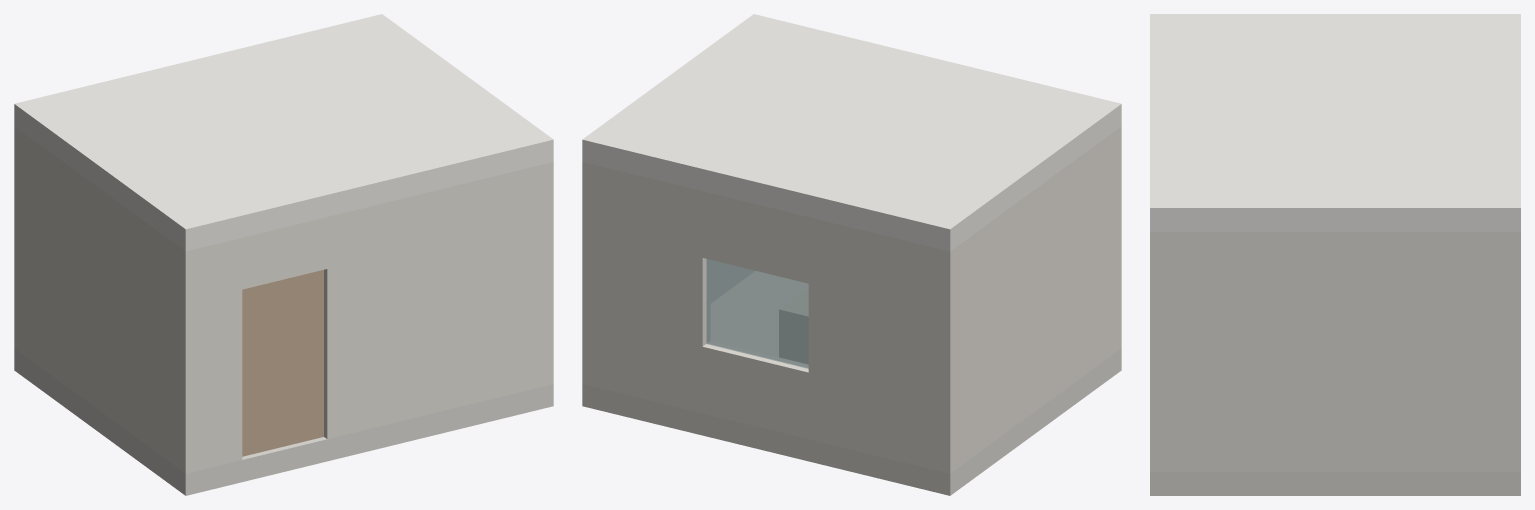
The picture shows the model from 3 angles, left to right: view 1: azimuth 30°, elevation 25°; view 2: azimuth 150°, elevation 25°; view 3: azimuth 270°, elevation 25°; orthographic projection. The views are drawn at different scales.
Visible parts, largest first — view 1: structure:Roof slab#0w6uLgfnrMDBeFuuRJNM4m, structure:South wall#18ecfMIRLPkfvf6_$0JaEx, structure:West wall#1HUDrLZ$vI_98GMG1c9sUJ, door:Entrance door#3Z2k6lcTnJFPCzw1CFlWEi, structure:Floor slab#2$lS6_pkzT9vhyE28hFrd5, structure:North wall#3T5xq7FzXSZgp4sGHYytL8; view 2: structure:North wall#3T5xq7FzXSZgp4sGHYytL8, structure:Roof slab#0w6uLgfnrMDBeFuuRJNM4m, structure:West wall#1HUDrLZ$vI_98GMG1c9sUJ, structure:Floor slab#2$lS6_pkzT9vhyE28hFrd5, window:North window#21gg1YcgDGVO7O$Ix04IPg, structure:South wall#18ecfMIRLPkfvf6_$0JaEx, furniture:Work table, 1.6 m#3zDKiH6mrH2Rie17YTXQ7c, structure:East wall#3GD3Dog8fGhxN2hsOOxMZy; view 3: structure:East wall#3GD3Dog8fGhxN2hsOOxMZy, structure:Roof slab#0w6uLgfnrMDBeFuuRJNM4m, structure:Floor slab#2$lS6_pkzT9vhyE28hFrd5, structure:South wall#18ecfMIRLPkfvf6_$0JaEx, structure:North wall#3T5xq7FzXSZgp4sGHYytL8.
Boxes of the visible parts, x1,y1,x2,y2 form: structure:Roof slab#0w6uLgfnrMDBeFuuRJNM4m: [14, 14, 553, 251]; structure:South wall#18ecfMIRLPkfvf6_$0JaEx: [177, 162, 553, 473]; structure:West wall#1HUDrLZ$vI_98GMG1c9sUJ: [22, 132, 177, 467]; door:Entrance door#3Z2k6lcTnJFPCzw1CFlWEi: [242, 270, 323, 456]; structure:Floor slab#2$lS6_pkzT9vhyE28hFrd5: [14, 348, 553, 495]; structure:North wall#3T5xq7FzXSZgp4sGHYytL8: [14, 126, 22, 353]; structure:North wall#3T5xq7FzXSZgp4sGHYytL8: [582, 162, 958, 473]; structure:Roof slab#0w6uLgfnrMDBeFuuRJNM4m: [582, 14, 1121, 251]; structure:West wall#1HUDrLZ$vI_98GMG1c9sUJ: [958, 132, 1113, 467]; structure:Floor slab#2$lS6_pkzT9vhyE28hFrd5: [582, 271, 1121, 495]; window:North window#21gg1YcgDGVO7O$Ix04IPg: [706, 259, 808, 368]; structure:South wall#18ecfMIRLPkfvf6_$0JaEx: [1113, 126, 1121, 353]; furniture:Work table, 1.6 m#3zDKiH6mrH2Rie17YTXQ7c: [779, 288, 808, 363]; structure:East wall#3GD3Dog8fGhxN2hsOOxMZy: [711, 260, 754, 302]; structure:East wall#3GD3Dog8fGhxN2hsOOxMZy: [1167, 232, 1503, 471]; structure:Roof slab#0w6uLgfnrMDBeFuuRJNM4m: [1150, 14, 1520, 231]; structure:Floor slab#2$lS6_pkzT9vhyE28hFrd5: [1150, 472, 1520, 495]; structure:South wall#18ecfMIRLPkfvf6_$0JaEx: [1150, 232, 1167, 471]; structure:North wall#3T5xq7FzXSZgp4sGHYytL8: [1503, 232, 1520, 471].
Bounding box in the file's own units: 5.2 × 3.6 × 4.2.
